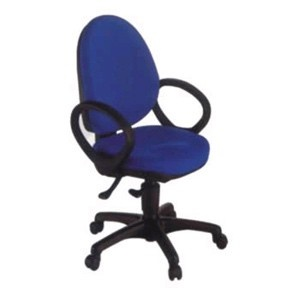chair: (69, 14, 228, 281)
